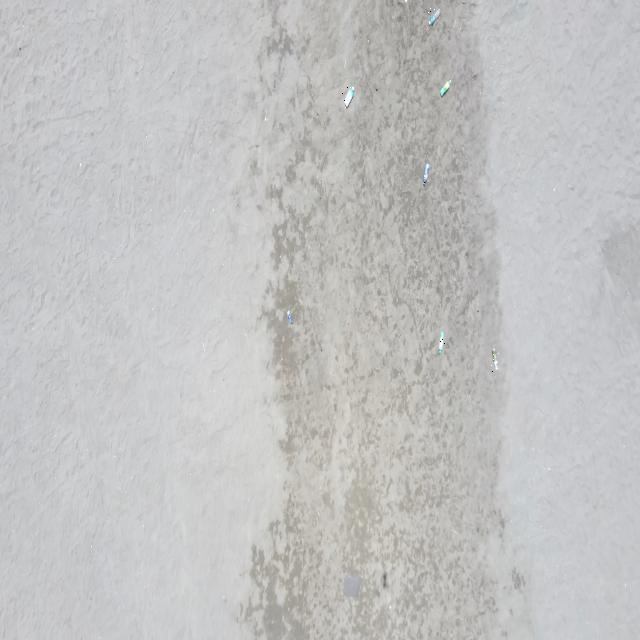plastic-bottle: (342, 86, 355, 110), (428, 7, 441, 27), (439, 80, 452, 99), (422, 161, 430, 188), (491, 348, 499, 372), (438, 330, 445, 355), (285, 310, 292, 327)
